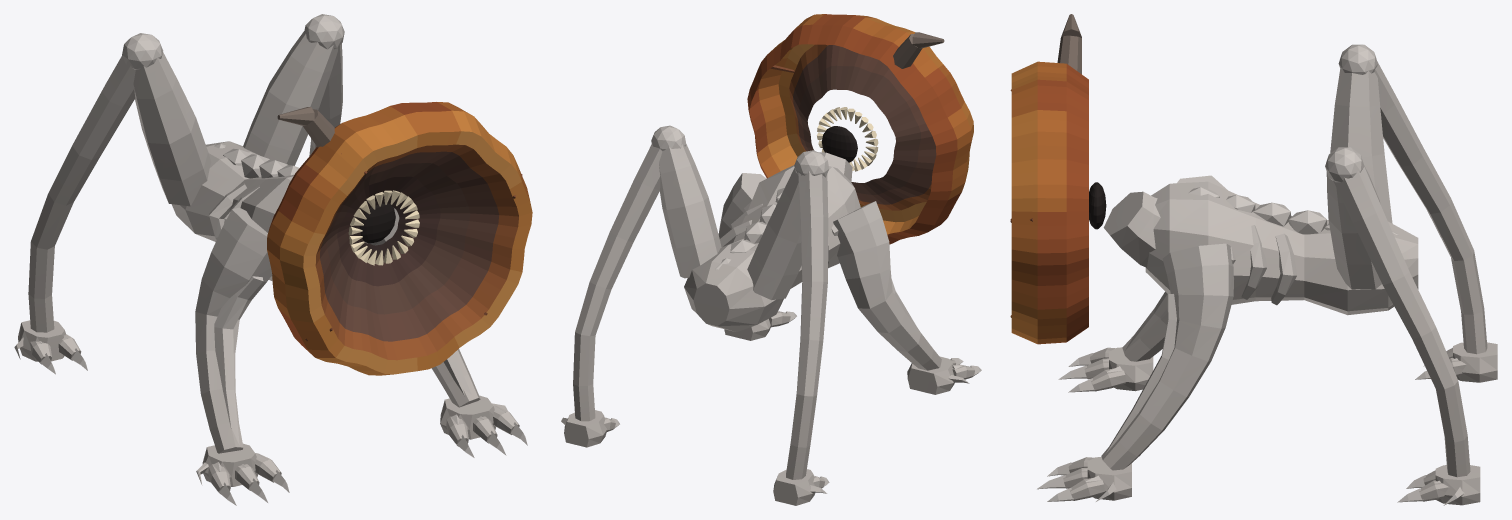
File: RingMaw_Proposed_sRGB.glb
3 renders of one model, left to right at view 1: azimuth 30°, elevation 25°; view 2: azimuth 150°, elevation 25°; view 3: azimuth 270°, elevation 25°, orthographic. The views are drawn at different scales.
Visible parts, largest first — view 1: Head_Funnel, Quadruped_LegR, Quadruped_ArmR, Quadruped_LegL, Quadruped_Body, Quadruped_ArmL, Throat, StemBase; view 2: Head_Funnel, Quadruped_LegL, Quadruped_LegR, Quadruped_Body, Quadruped_ArmR, Quadruped_ArmL, Throat, StemBase; view 3: Head_Funnel, Quadruped_Body, Quadruped_LegL, Quadruped_ArmL, Quadruped_LegR, Quadruped_ArmR, StemBase, Throat.
Part boxes in pixels (bbox=[...]): Head_Funnel: bbox=[267, 102, 532, 375]; Quadruped_LegR: bbox=[14, 33, 211, 374]; Quadruped_ArmR: bbox=[195, 207, 289, 505]; Quadruped_LegL: bbox=[243, 14, 344, 165]; Quadruped_Body: bbox=[171, 141, 378, 281]; Quadruped_ArmL: bbox=[376, 208, 527, 457]; Throat: bbox=[359, 203, 395, 243]; StemBase: bbox=[303, 109, 334, 147]; Head_Funnel: bbox=[747, 14, 973, 244]; Quadruped_LegL: bbox=[561, 125, 721, 447]; Quadruped_LegR: bbox=[747, 150, 829, 505]; Quadruped_Body: bbox=[684, 152, 860, 331]; Quadruped_ArmR: bbox=[833, 201, 981, 394]; Quadruped_ArmL: bbox=[718, 173, 796, 340]; Throat: bbox=[821, 126, 857, 162]; StemBase: bbox=[893, 34, 922, 68]; Head_Funnel: bbox=[1011, 61, 1088, 344]; Quadruped_Body: bbox=[1103, 181, 1418, 315]; Quadruped_LegL: bbox=[1325, 147, 1480, 505]; Quadruped_ArmL: bbox=[1037, 243, 1233, 501]; Quadruped_LegR: bbox=[1330, 44, 1497, 382]; Quadruped_ArmR: bbox=[1058, 175, 1227, 392]; StemBase: bbox=[1057, 35, 1081, 74]; Throat: bbox=[1089, 182, 1106, 229].
Size of the model in its own units: 3.72 by 4.28 by 5.04.
